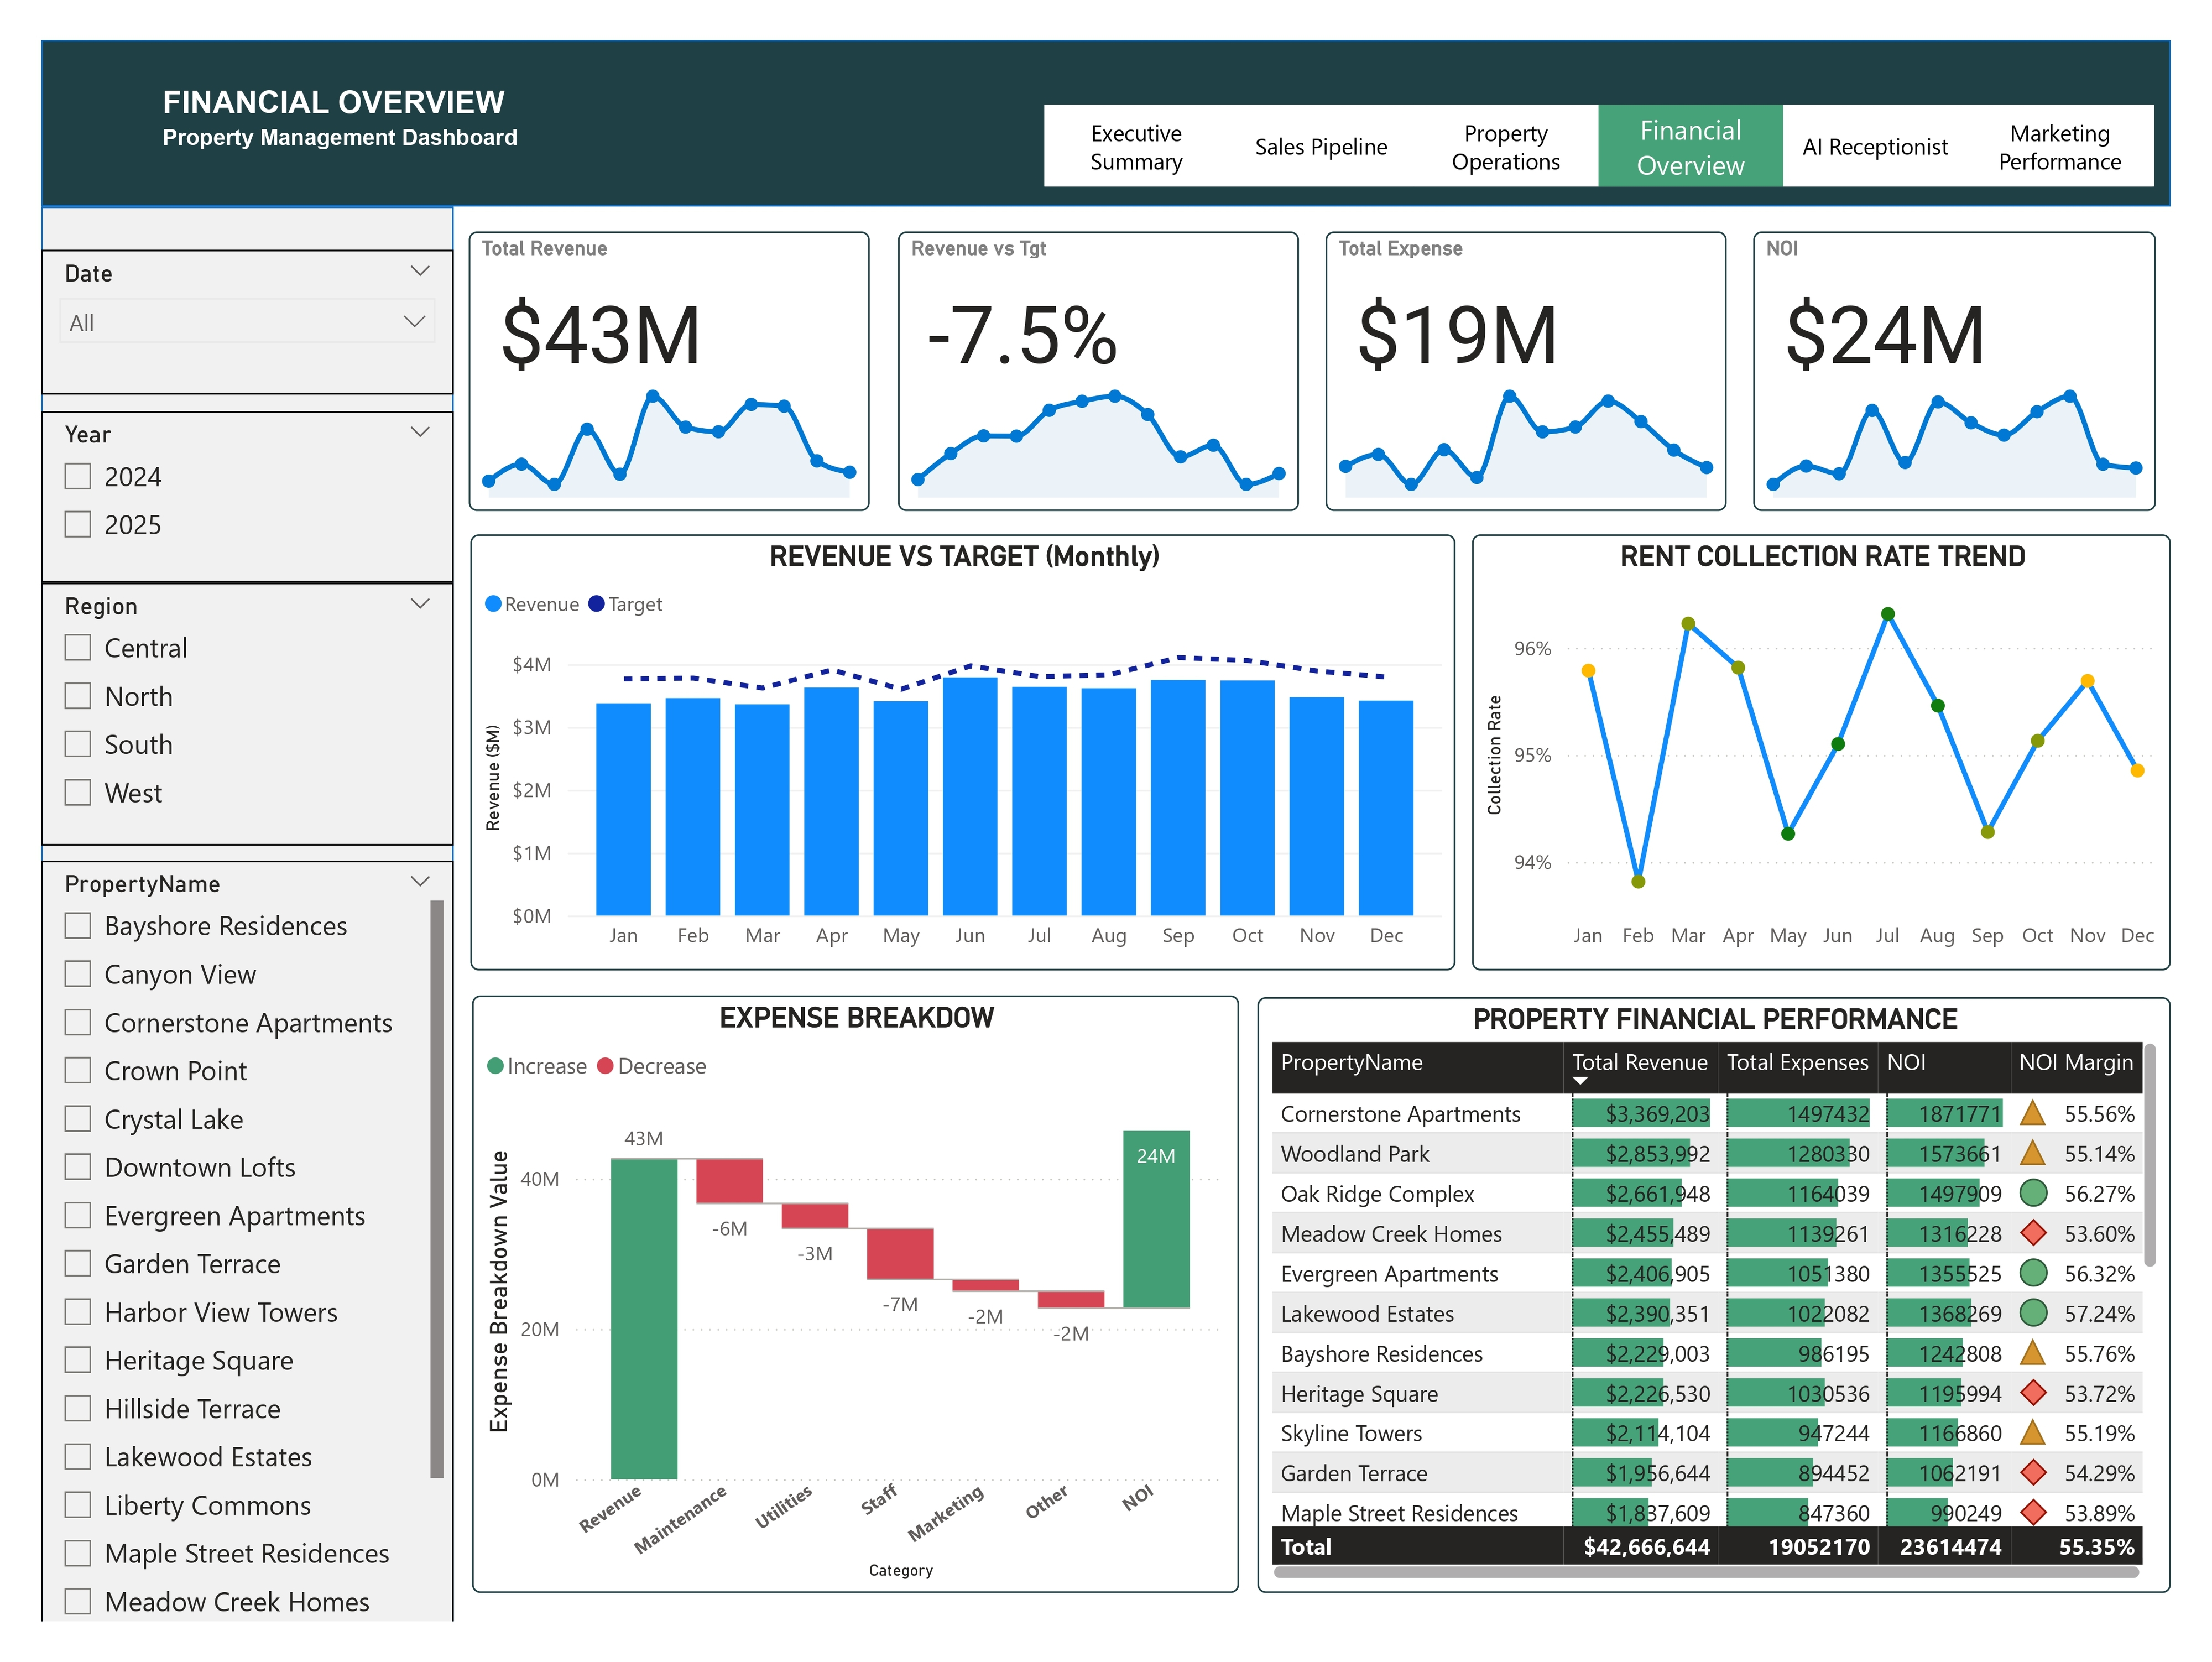

What the dashboard file says about the page in this screenshot:
{"tool":"powerbi","page":{"name":"Financial Overview","canvas":[1280,950],"ordinal":3},"visuals":[{"type":"shape","box":[0,0,1280,100],"z":0},{"type":"PBI_CV_7B952816_A48F_49B4_9E13_15E3BB2C0337","title":"Total Revenue","fields":{"Values":["_Measures.Total Revenue"],"axis":["DateTable.Date.Variation.Date Hierarchy.Month"],"TargetValue":["_Measures.Revenue Change MoM %"]},"box":[256.6,115.7,241.2,168],"z":0,"group":"g1"},{"type":"shape","box":[0,100,247.8,950],"z":1000},{"type":"PBI_CV_7B952816_A48F_49B4_9E13_15E3BB2C0337","title":"Revenue vs Tgt","fields":{"axis":["DateTable.Date.Variation.Date Hierarchy.Month"],"Values":["_Measures.Revenue vs Target %"]},"box":[514.2,115.3,241,168],"z":1000,"group":"g1"},{"type":"textbox","box":[67.8,22.2,412.2,55.6],"z":2000},{"type":"PBI_CV_7B952816_A48F_49B4_9E13_15E3BB2C0337","title":"Total Expense","fields":{"target":["_Measures.Revenue Target"],"axis":["DateTable.Date.Variation.Date Hierarchy.Month"],"Values":["_Measures.Total Expenses"]},"box":[771.7,115.3,241,168],"z":2000,"group":"g1"},{"type":"PBI_CV_7B952816_A48F_49B4_9E13_15E3BB2C0337","title":"NOI","fields":{"axis":["DateTable.Date.Variation.Date Hierarchy.Month"],"TargetValue":["_Measures.Revenue Change MoM %"],"Values":["_Measures.NOI"]},"box":[1029.1,115.7,241.1,168.1],"z":3000,"group":"g1"},{"type":"slicer","fields":{"Values":["DateTable.Date"]},"box":[0,126.1,247.9,87],"z":3000},{"type":"slicer","fields":{"Values":["DateTable.Date.Variation.Date Hierarchy.Year"]},"box":[0,223.2,247.9,102.9],"z":4000},{"type":"slicer","fields":{"Values":["Properties.Region"]},"box":[0,326.2,247.9,158],"z":5000},{"type":"slicer","fields":{"Values":["Properties.PropertyName"]},"box":[0,492.9,247.9,532],"z":6000},{"type":"pageNavigator","box":[603,39.1,666.8,49.3],"z":7000},{"type":"lineStackedColumnComboChart","title":"REVENUE VS TARGET (Monthly)","fields":{"Category":["DateTable.MonthShort"],"Y":["_Measures.Total Revenue"],"Y2":["_Measures.Revenue Target"]},"box":[257.7,297.1,592.2,261.8],"z":8000},{"type":"tableEx","title":"PROPERTY FINANCIAL PERFORMANCE ","fields":{"Values":["Properties.PropertyName","_Measures.Total Revenue","_Measures.Total Expenses","_Measures.NOI","_Measures.NOI Margin"]},"box":[730.7,574.8,549.3,358.1],"z":9000},{"type":"lineChart","title":"RENT COLLECTION RATE TREND ","fields":{"Category":["DateTable.MonthShort"],"Y":["_Measures.Collection Rate"]},"box":[859.8,297.2,420.2,261.8],"z":10000},{"type":"group","id":"g1","title":"Group 1","box":[256.6,115.3,1013.6,168.4],"z":11000},{"type":"waterfallChart","title":"EXPENSE BREAKDOW","fields":{"Category":["Expense Breakdown Table.Category"],"Y":["_Measures.Expense Breakdown Value"]},"box":[258.6,574.3,461.4,358.6],"z":12000}]}

Visuals, with their boxes in screenshot pixels (x1, y1, x2, y2), scaled from the page's 1280x950 canvas onto the 2212x1662 screenshot:
shape: BBox(0, 0, 2211, 175)
"Total Revenue" PBI_CV_7B952816_A48F_49B4_9E13_15E3BB2C0337: BBox(444, 202, 860, 496)
shape: BBox(0, 175, 428, 1661)
"Revenue vs Tgt" PBI_CV_7B952816_A48F_49B4_9E13_15E3BB2C0337: BBox(889, 202, 1305, 496)
textbox: BBox(117, 39, 830, 136)
"Total Expense" PBI_CV_7B952816_A48F_49B4_9E13_15E3BB2C0337: BBox(1334, 202, 1750, 496)
"NOI" PBI_CV_7B952816_A48F_49B4_9E13_15E3BB2C0337: BBox(1778, 202, 2195, 497)
slicer - DateTable.Date: BBox(0, 221, 429, 373)
slicer - DateTable.Date.Variation.Date Hierarchy.Year: BBox(0, 390, 429, 571)
slicer - Properties.Region: BBox(0, 571, 429, 847)
slicer - Properties.PropertyName: BBox(0, 862, 429, 1661)
pageNavigator: BBox(1042, 69, 2194, 155)
"REVENUE VS TARGET (Monthly)" lineStackedColumnComboChart: BBox(445, 520, 1469, 978)
"PROPERTY FINANCIAL PERFORMANCE " tableEx: BBox(1262, 1005, 2211, 1632)
"RENT COLLECTION RATE TREND " lineChart: BBox(1486, 520, 2211, 978)
"Group 1" group: BBox(444, 202, 2195, 496)
"EXPENSE BREAKDOW" waterfallChart: BBox(447, 1005, 1244, 1632)
